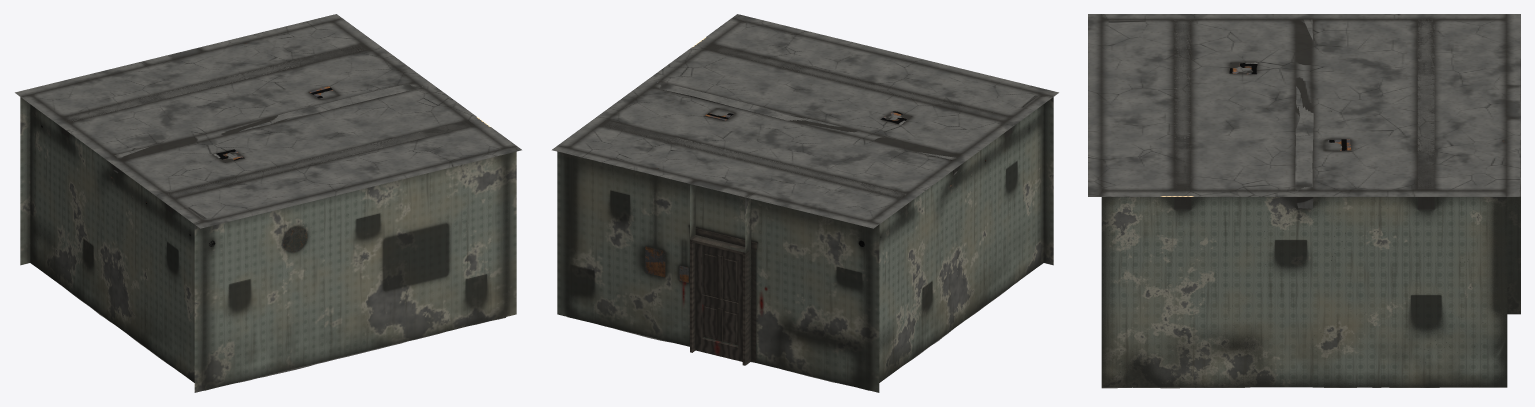
Rendered from BasementScene.fbx.
3 renders of one model, left to right at view 1: azimuth 30°, elevation 25°; view 2: azimuth 150°, elevation 25°; view 3: azimuth 270°, elevation 25°, orthographic. The views are drawn at different scales.
Parts seen in each view (by area): view 1: Ceiling, Wall_South, Wall_West, Ceiling_Beams, Wall_North, Basement_Floor; view 2: Ceiling, Wall_North, Wall_West, Exit_Door, Ceiling_Beams, Door_Frame, Wall_South, Fuse_Box; view 3: Wall_East, Ceiling, Ceiling_Beams, Wall_North, Basement_Floor.
Boxes of the visible parts, x1,y1,x2,y2 form: Ceiling: [15, 14, 521, 228]; Wall_South: [194, 151, 516, 392]; Wall_West: [30, 104, 194, 382]; Ceiling_Beams: [61, 43, 474, 214]; Wall_North: [20, 97, 30, 265]; Basement_Floor: [66, 289, 505, 390]; Ceiling: [552, 14, 1058, 228]; Wall_North: [557, 151, 879, 392]; Wall_West: [879, 104, 1043, 382]; Exit_Door: [695, 243, 742, 361]; Ceiling_Beams: [599, 43, 1012, 214]; Door_Frame: [689, 225, 757, 365]; Wall_South: [1043, 97, 1053, 265]; Fuse_Box: [645, 168, 665, 277]; Wall_East: [1101, 197, 1507, 387]; Ceiling: [1088, 14, 1520, 196]; Ceiling_Beams: [1174, 19, 1434, 209]; Wall_North: [1507, 197, 1520, 314]; Basement_Floor: [1101, 387, 1506, 388].
Size of the model in its own units: 6.4 by 3.26 by 6.4.
Materials: 15 (12 with a texture image).
